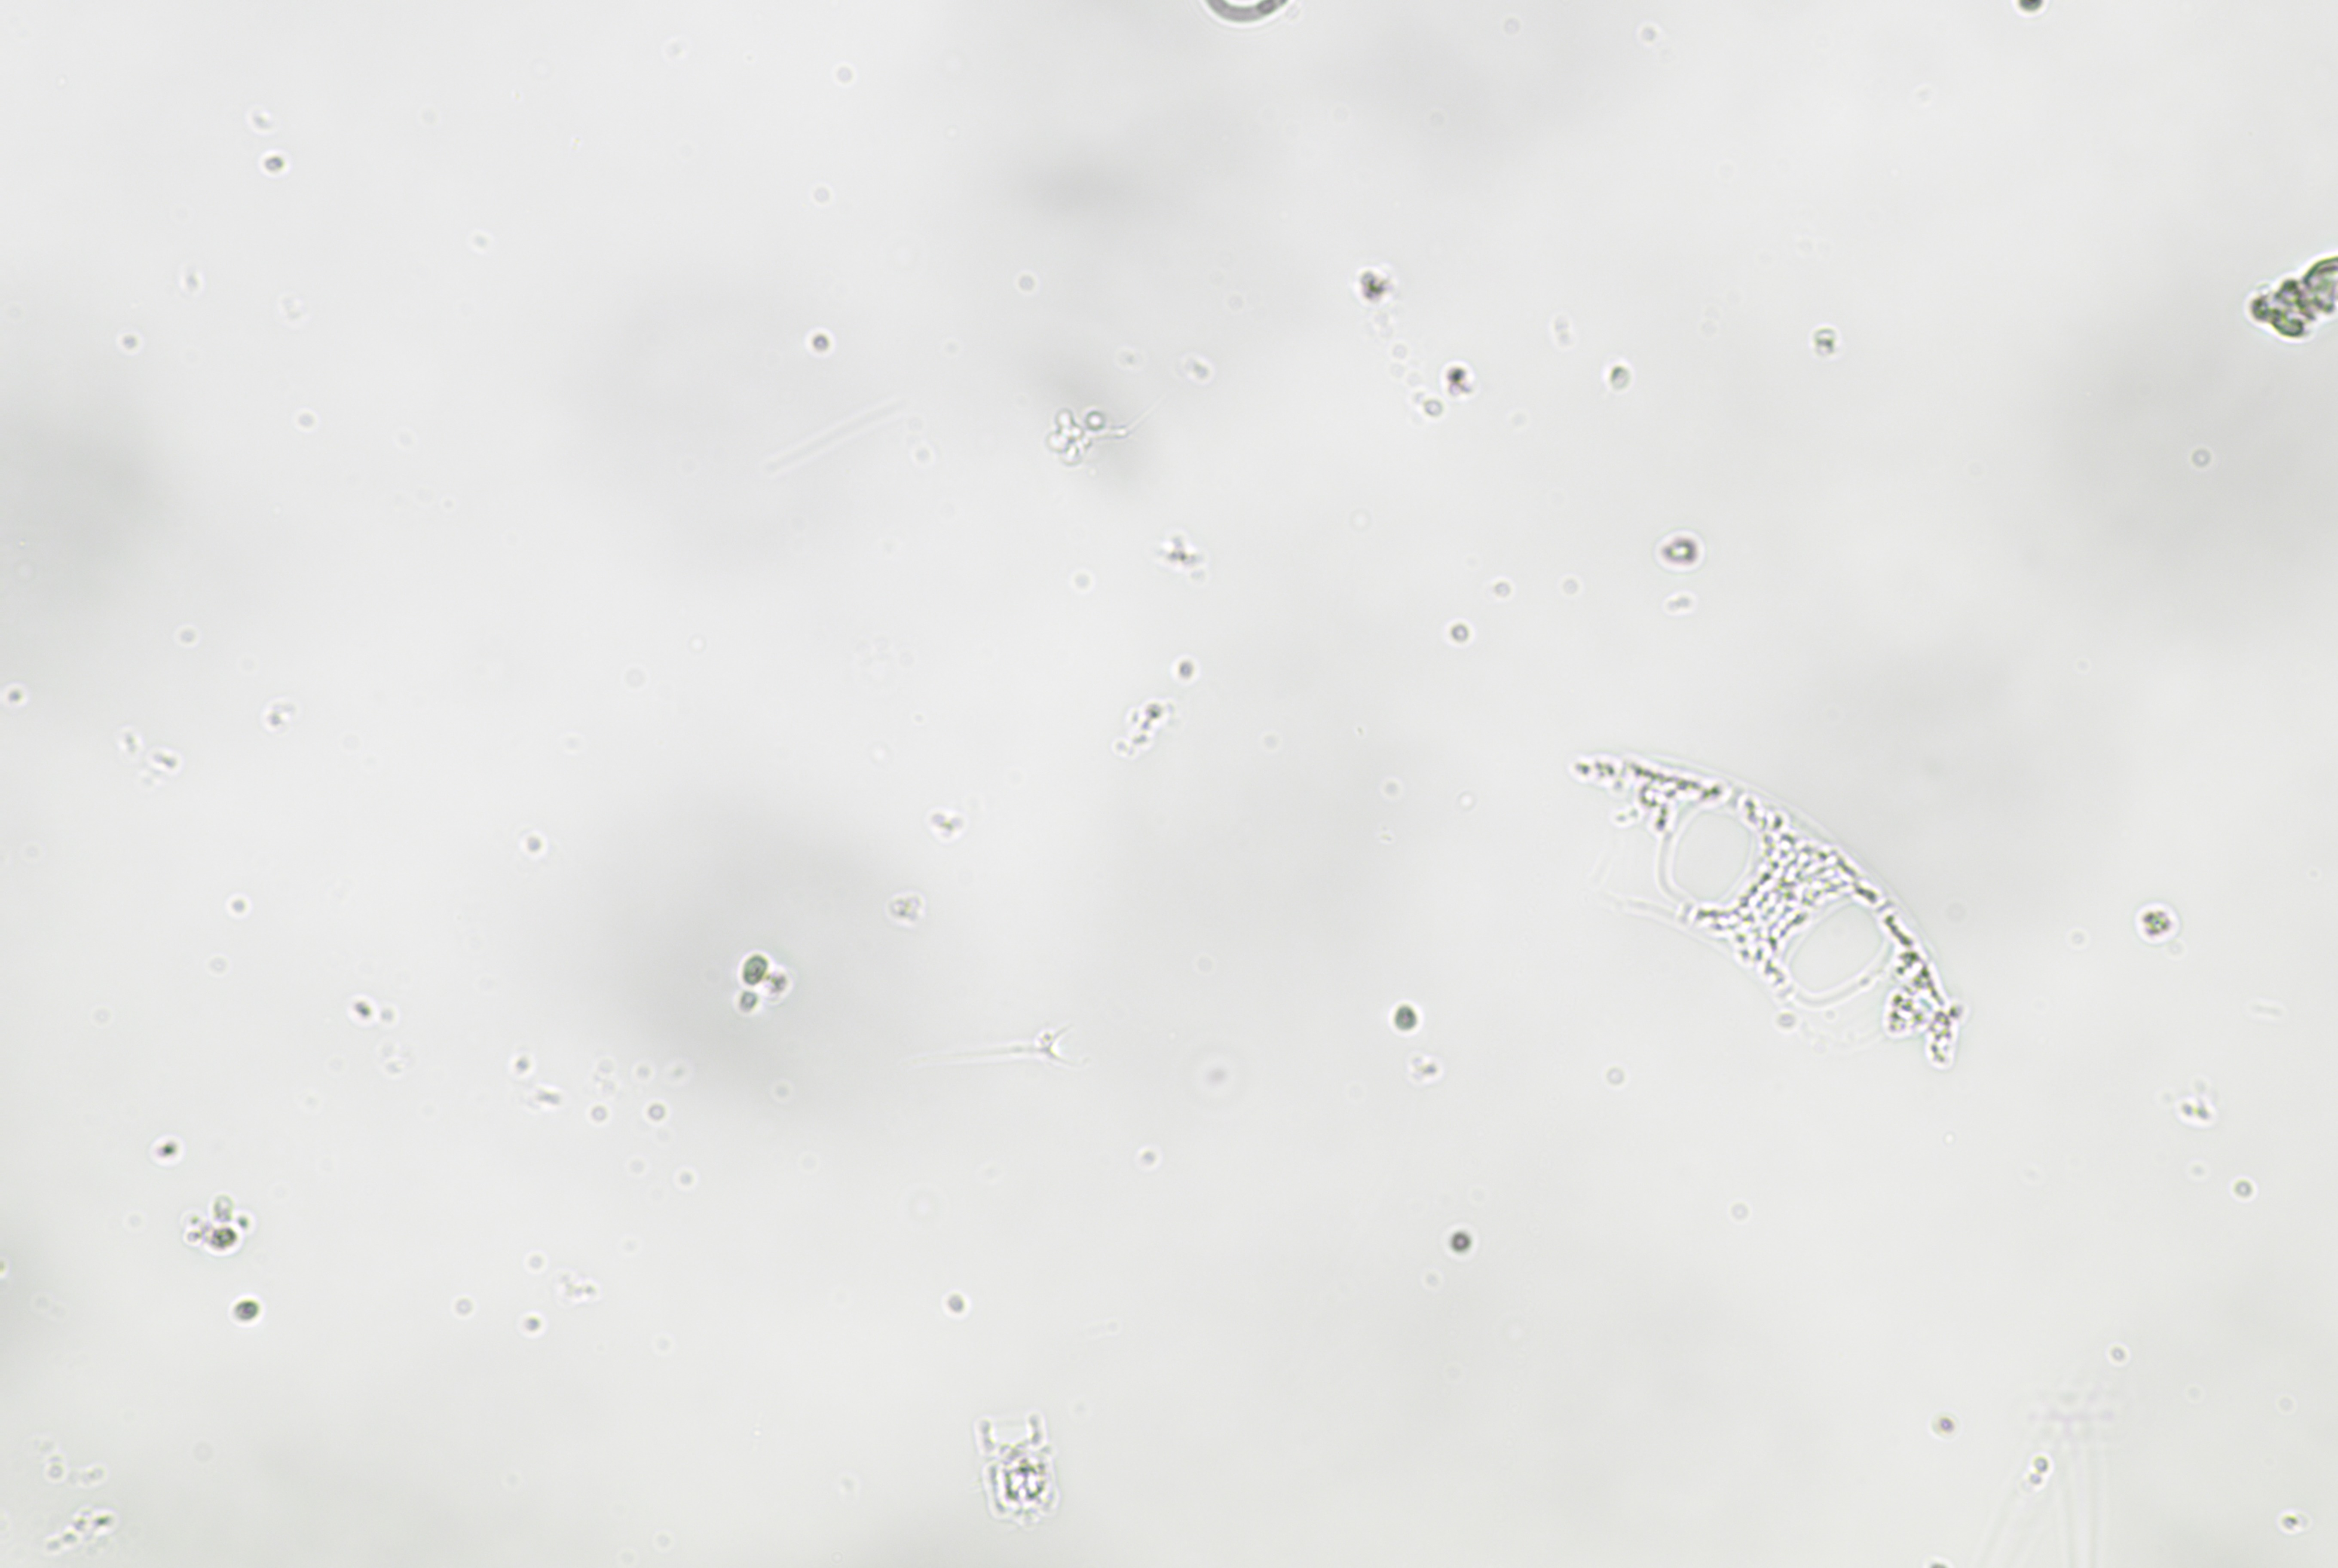eucampia: (1535, 710, 1974, 1094)
